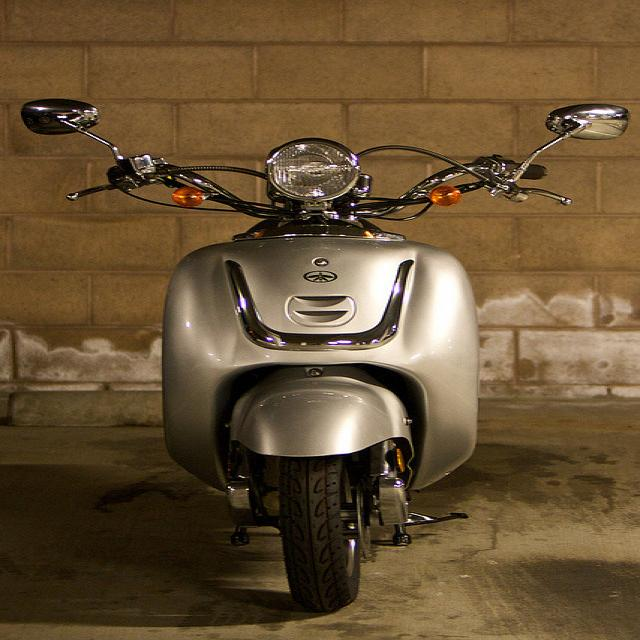motor: (24, 99, 632, 613)
